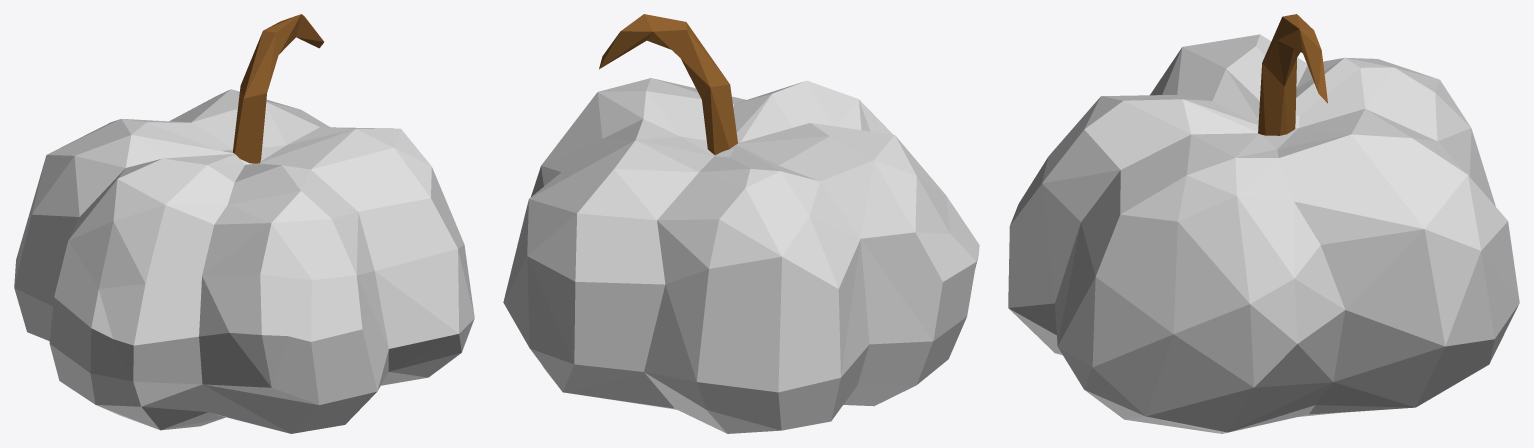
The model's file is pumpkin.fbx.
3 renders of one model, left to right at view 1: azimuth 30°, elevation 25°; view 2: azimuth 150°, elevation 25°; view 3: azimuth 270°, elevation 25°, orthographic. The views are drawn at different scales.
Parts seen in each view (by area): view 1: pumpkin; view 2: pumpkin; view 3: pumpkin.
Part boxes in pixels (x1,y1,x2,y2): pumpkin: [14, 14, 474, 433]; pumpkin: [503, 14, 979, 433]; pumpkin: [1008, 14, 1519, 433].
Size of the model in its own units: 43.93 by 38.77 by 44.57.
